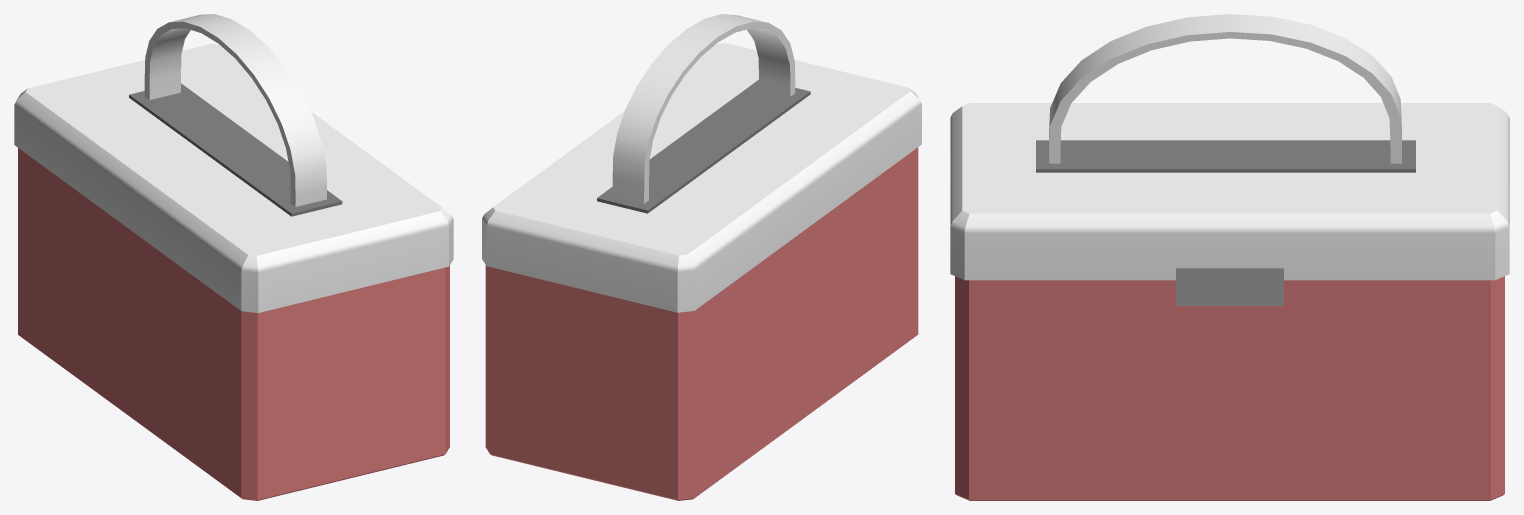
The model's file is Cooler.fbx.
3 renders of one model, left to right at view 1: azimuth 30°, elevation 25°; view 2: azimuth 150°, elevation 25°; view 3: azimuth 270°, elevation 25°, orthographic. The views are drawn at different scales.
Visible parts, largest first — view 1: Main, Lid, Handle, HandlePanel; view 2: Main, Lid, Handle, HandlePanel; view 3: Main, Lid, HandlePanel, Handle, Lock.
Boxes of the visible parts, x1,y1,x2,y2 form: Main: (18,148,449,500); Lid: (14,43,453,312); Handle: (144,14,326,206); HandlePanel: (129,83,342,216); Main: (485,147,918,500); Lid: (482,43,921,312); Handle: (612,14,795,203); HandlePanel: (597,80,810,213); Main: (955,276,1504,500); Lid: (950,103,1509,280); HandlePanel: (1036,140,1415,172); Handle: (1049,14,1401,163); Lock: (1176,262,1283,305).
Size of the model in its own units: 1.03 by 1.64 by 1.99.
